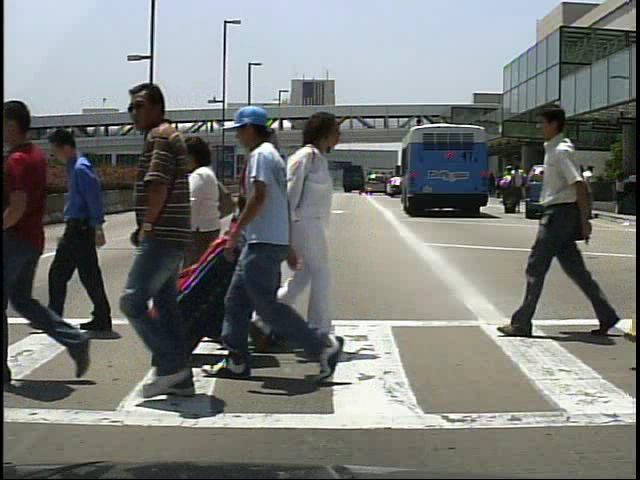person: (110, 84, 247, 418), (233, 105, 339, 387), (231, 109, 347, 363), (3, 92, 77, 390), (517, 96, 603, 340), (41, 122, 129, 335), (235, 122, 295, 361), (136, 129, 208, 322), (169, 133, 238, 328), (231, 183, 273, 341), (582, 163, 602, 218), (498, 166, 516, 219), (512, 165, 529, 215)
